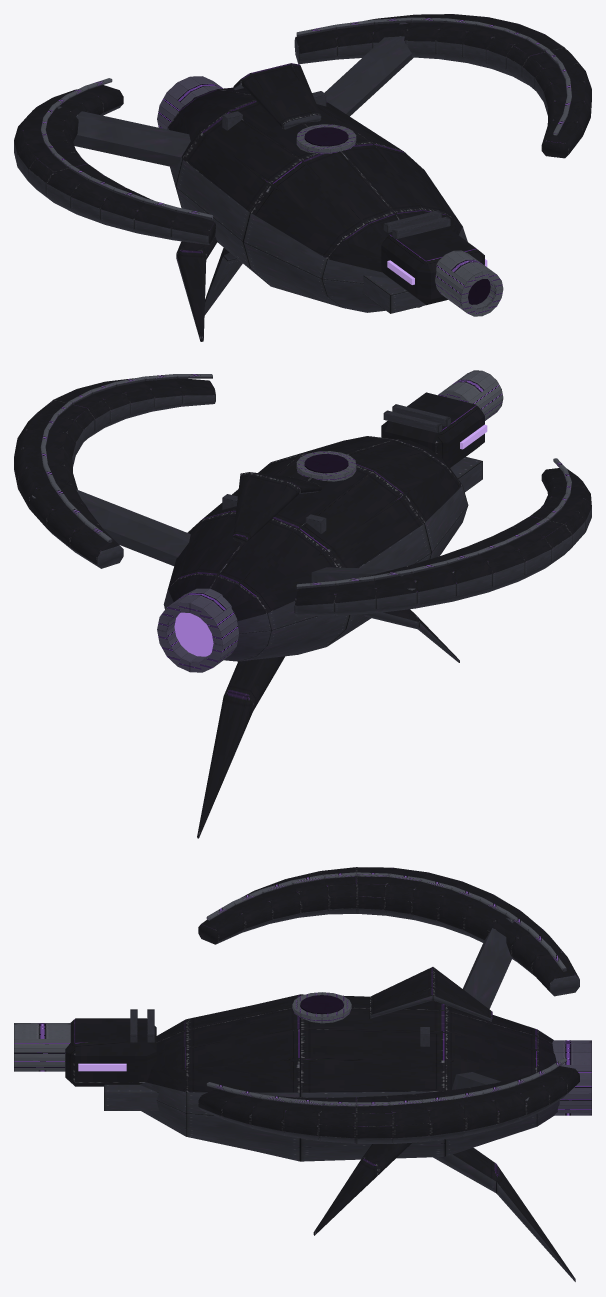
File: pioneer-eris-l07-laser.glb
3 views of the same model, one above another, from view 1: azimuth 30°, elevation 25°; view 2: azimuth 150°, elevation 25°; view 3: azimuth 270°, elevation 25° (orthographic).
Visible parts, largest first — view 1: Drone; view 2: Drone; view 3: Drone.
Boxes of the visible parts, box(x1,y1,x2,y2) form: Drone: box(14, 14, 591, 341); Drone: box(14, 370, 591, 838); Drone: box(14, 867, 591, 1281).
Size of the model in its own units: 1.51 by 0.8489 by 1.46.
Materials: 3 (3 with a texture image).
